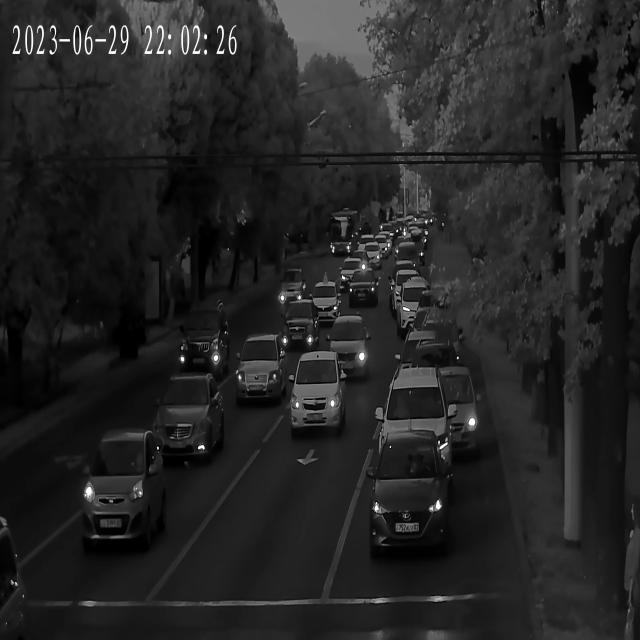Bus: (332, 209, 364, 253)
Car: (70, 427, 167, 552), (361, 434, 451, 558), (377, 364, 475, 473), (149, 378, 227, 468), (286, 352, 346, 434), (382, 430, 448, 490), (230, 336, 286, 406), (0, 506, 26, 638), (394, 284, 445, 340), (320, 324, 370, 380), (404, 342, 460, 384), (412, 315, 462, 360), (178, 336, 229, 378), (338, 266, 378, 306), (305, 282, 345, 321), (275, 317, 320, 351), (391, 269, 428, 307), (278, 271, 308, 307), (339, 259, 372, 285), (392, 260, 419, 286), (396, 244, 422, 269), (343, 252, 372, 273), (356, 246, 382, 269), (333, 240, 355, 258), (405, 225, 427, 243)
